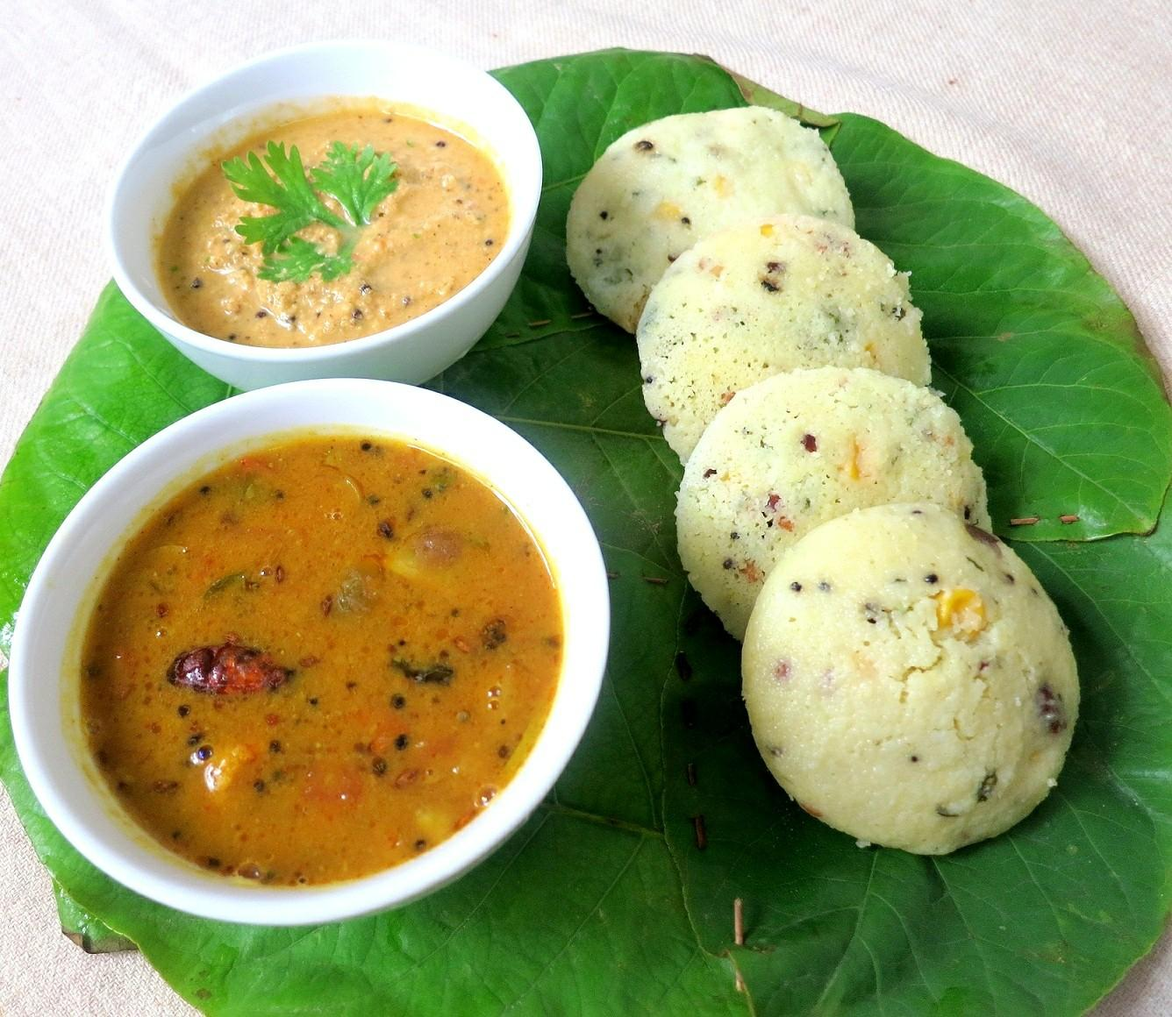Idli: (739, 502, 1084, 851), (674, 370, 988, 641), (637, 215, 930, 455), (561, 109, 856, 338)
